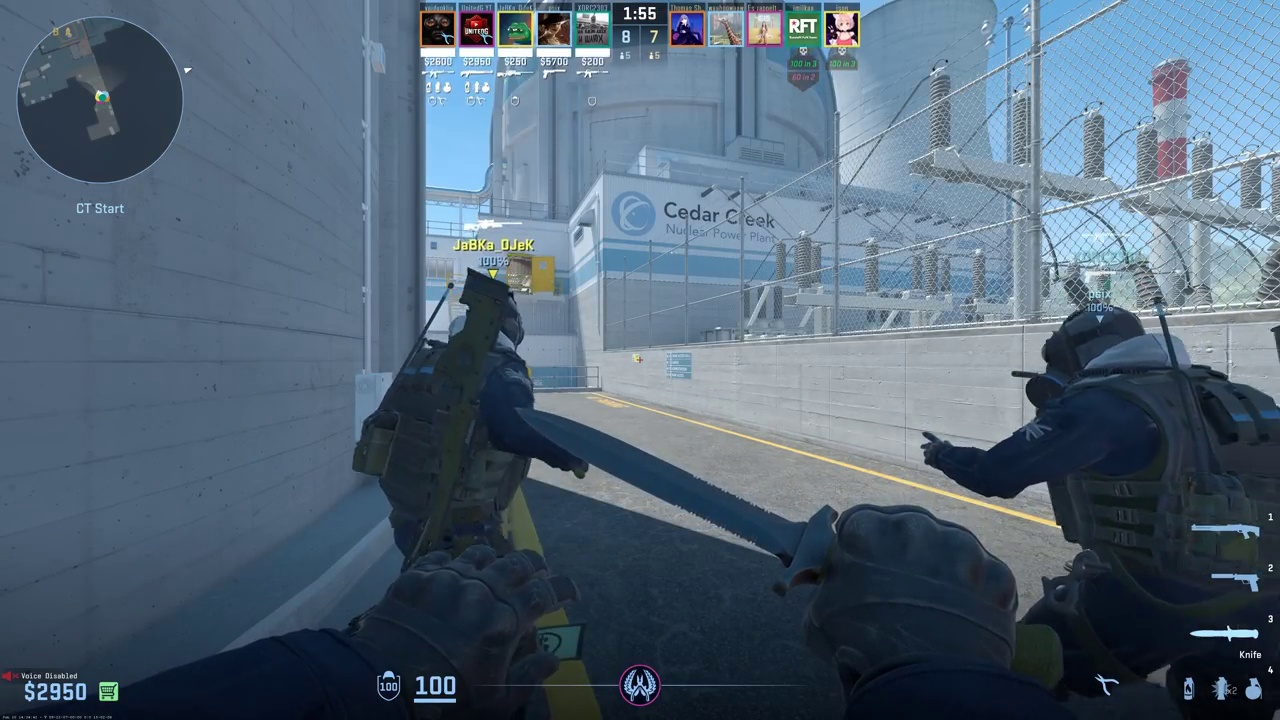CT: (993, 306, 1280, 720), (389, 284, 549, 578)
